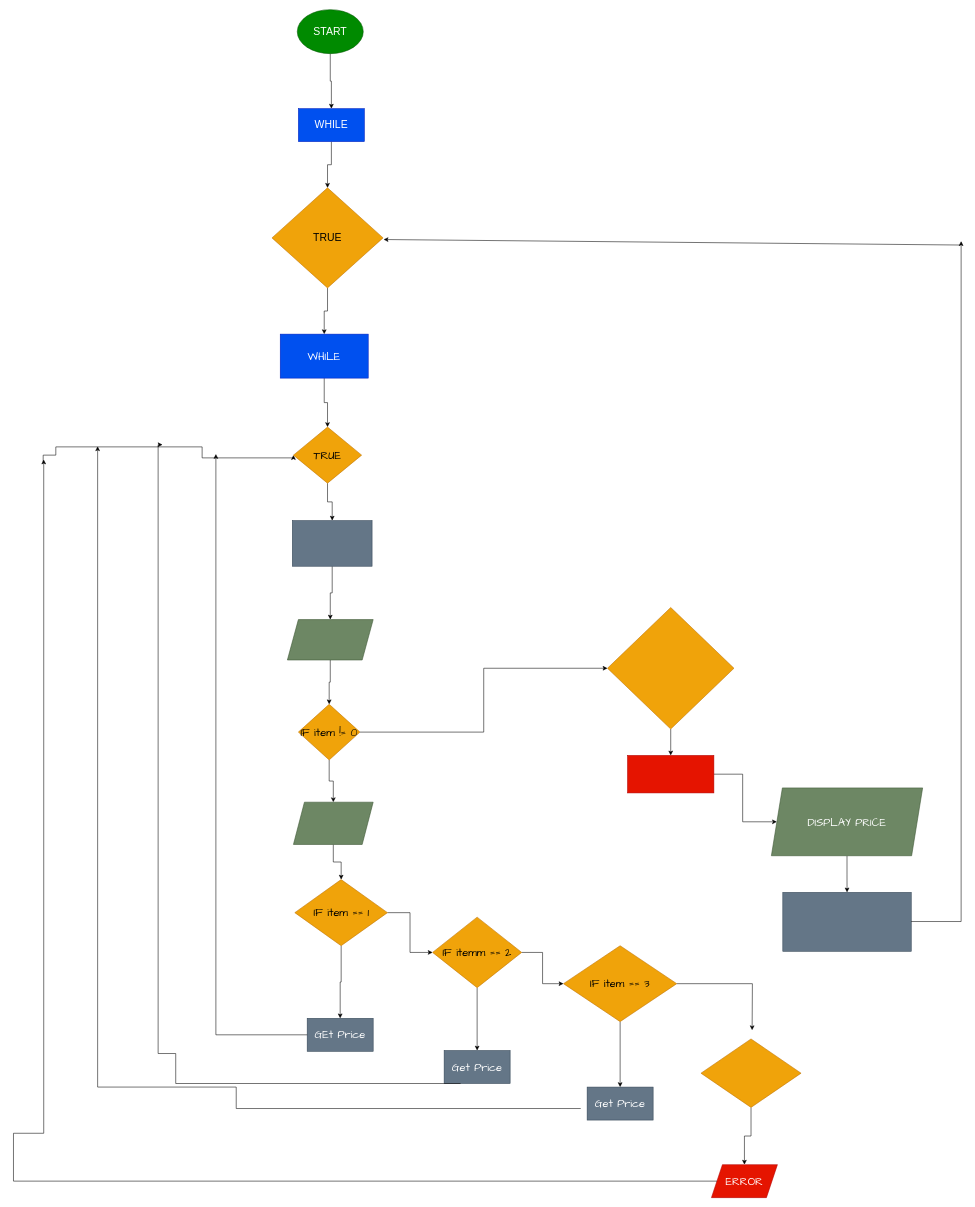
Some shapes in this 975 by 1207 pixel diagram are drawn without their labels. The shapes that lost their labels are listed below. From the top down, each one's centre as x and y in pixels, then its label:
At point (332, 543): "DisplayMenu()".
At point (330, 639): "Get Item".
At point (670, 668): "IF Item == 0".
At point (670, 774): "BREAK".
At point (333, 823): "Get numItem".
At point (846, 921): "RESET Price".
At point (750, 1072): "ELSE".
